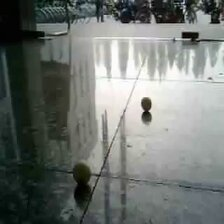w: (71, 161, 92, 185), (141, 97, 153, 111)
